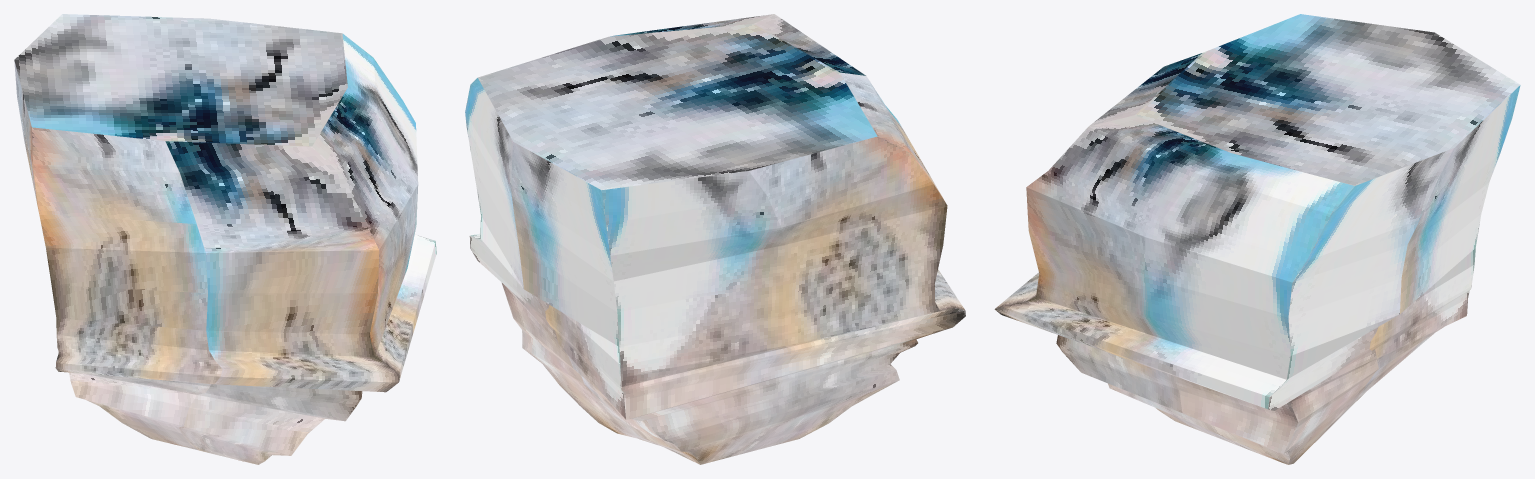
3 views of the same model, side by side, from view 1: azimuth 30°, elevation 25°; view 2: azimuth 150°, elevation 25°; view 3: azimuth 270°, elevation 25° (orthographic). The views are drawn at different scales.
Parts seen in each view (by area): view 1: SPLICE_3.001; view 2: SPLICE_3.001; view 3: SPLICE_3.001.
Boxes of the visible parts, <box> form: SPLICE_3.001: <box>14,14,436,464</box>; SPLICE_3.001: <box>465,14,965,464</box>; SPLICE_3.001: <box>994,14,1520,464</box>.
Bounding box in the file's own units: 2.01 × 1.62 × 2.21.
Materials: 1 (1 with a texture image).
